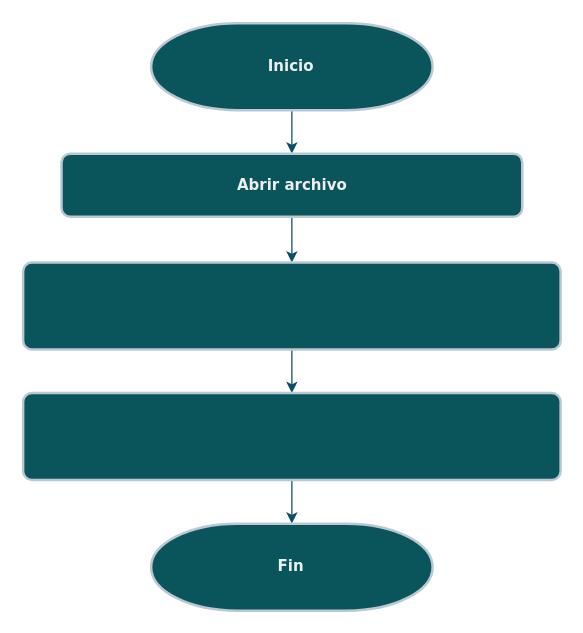
Image size: 583x633. Some labels were removed from this diagram. The shapes that lost their labels are listed below. From the top down, each one's centre as x and y in pixels, then its label:
At point (291, 305): "Lectura / Escritura / Anexion".
At point (291, 436): "Cerrar Archivo".
